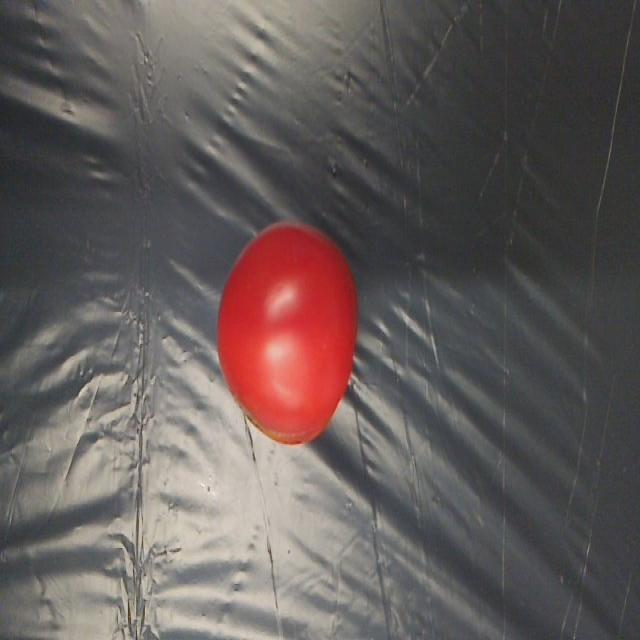kirmizi: (207, 229, 370, 461)
